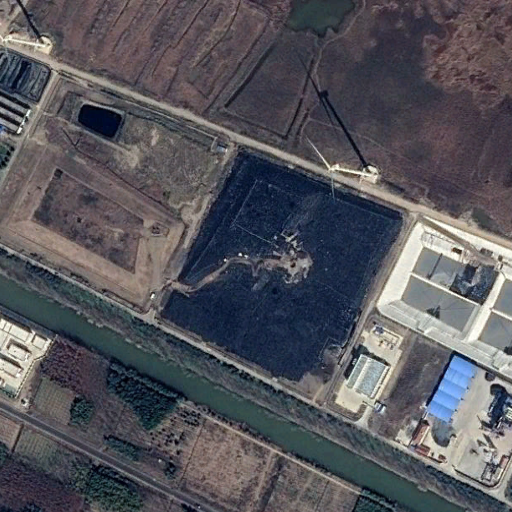lf: (161, 139, 412, 397)
